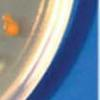orange: (3, 15, 20, 36)
